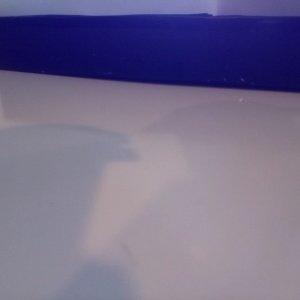zone: (53, 31, 263, 104)
